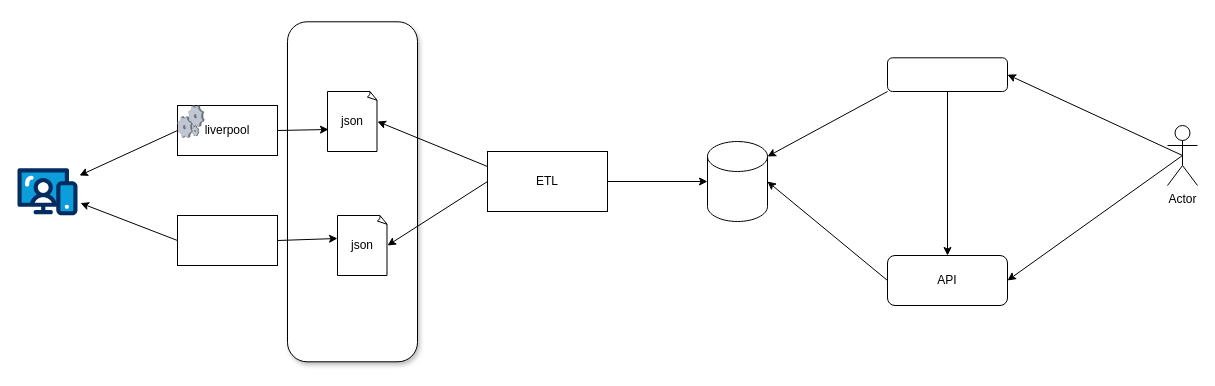
This 1215x386 diagram has some shape labels left out. Each missing label, with the centre of its shape:
bot LLM: the point at 947,74
DB: the point at 737,181
home_depot: the point at 227,240
